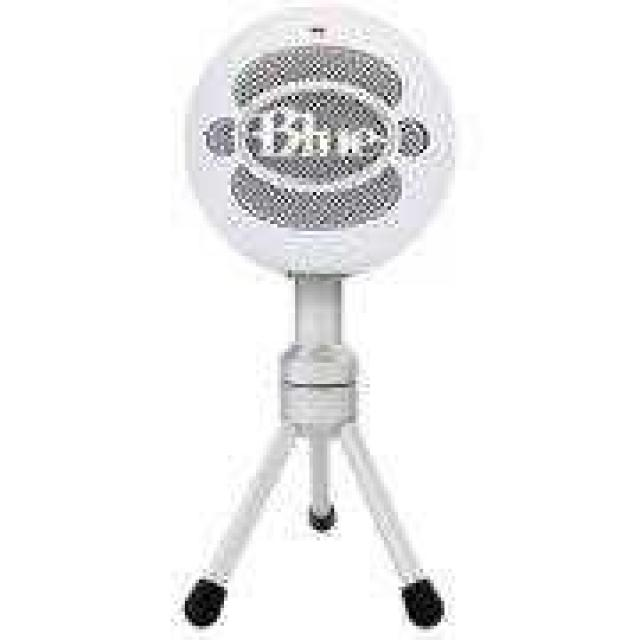microphone: (166, 4, 466, 627)
